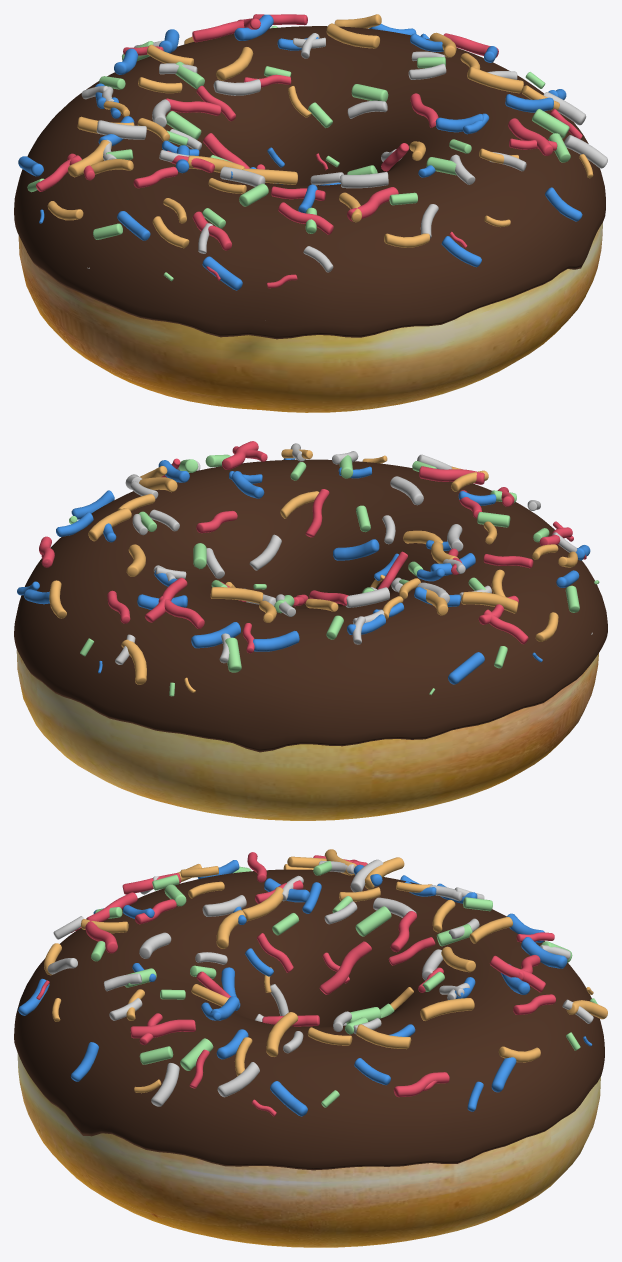
File: dark rainbow vermicheli.glb
The picture shows the model from 3 angles, top to bottom: view 1: azimuth 30°, elevation 25°; view 2: azimuth 150°, elevation 25°; view 3: azimuth 270°, elevation 25°; orthographic projection. The views are drawn at different scales.
Parts seen in each view (by area): view 1: dark, ver rainbow, Torus; view 2: dark, Torus, ver rainbow; view 3: dark, ver rainbow, Torus.
Boxes of the visible parts, <box> form: dark: <box>14,26,605,339</box>; ver rainbow: <box>18,14,607,290</box>; Torus: <box>18,222,602,412</box>; dark: <box>14,459,607,752</box>; Torus: <box>16,649,598,820</box>; ver rainbow: <box>17,441,599,696</box>; dark: <box>14,869,604,1170</box>; ver rainbow: <box>18,849,607,1116</box>; Torus: <box>17,1052,600,1247</box>.
Bounding box in the file's own units: 0.1988 × 0.0811 × 0.198.
Materials: 7 (1 with a texture image).
